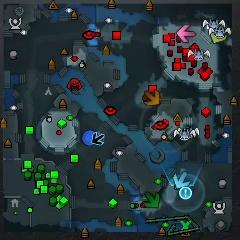Other: (180, 187, 192, 201), (180, 221, 191, 231)
p1: (82, 131, 96, 146)
x1: (177, 24, 196, 42)
x2: (211, 31, 227, 43)
x3: (173, 172, 190, 188)
x3Clone: (92, 132, 105, 145)
x4: (144, 191, 161, 209)
x5: (144, 89, 160, 105)
